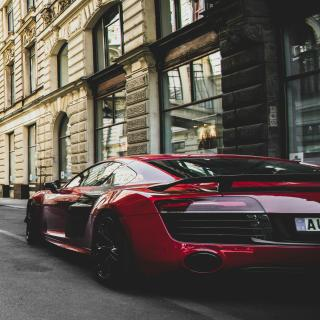Normal_vehicle: (23, 152, 320, 292)
